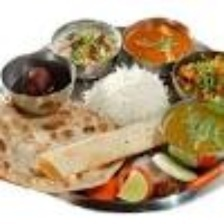sabzi: (174, 50, 224, 98)
